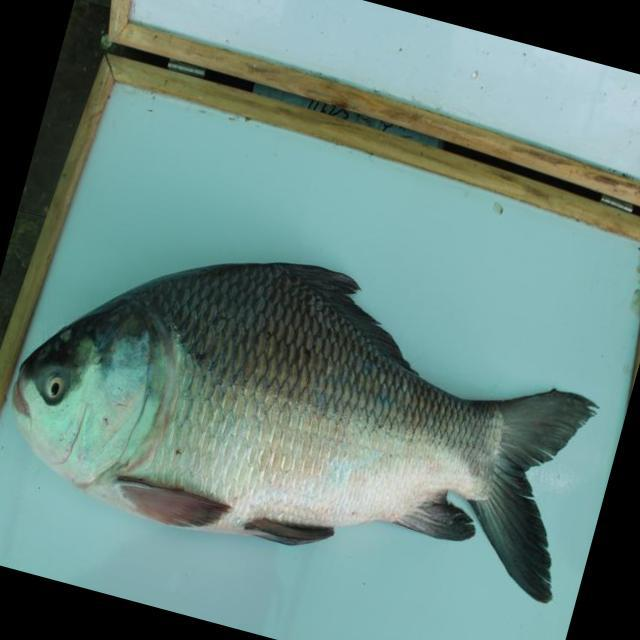Catla: (1, 256, 603, 606)
